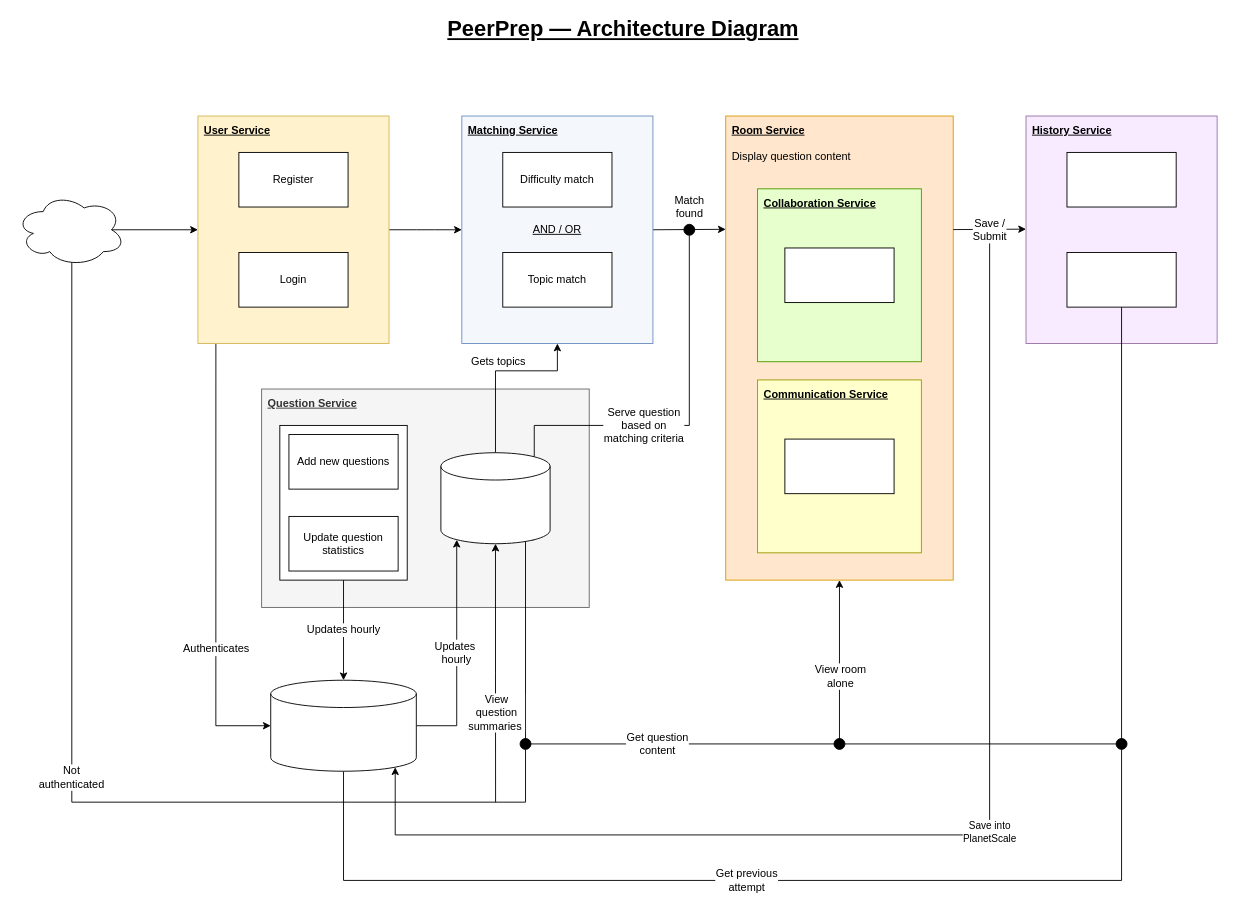
Some shapes in this 1233 by 909 pixel diagram are drawn without their labels. The shapes that lost their labels are listed below. From the top down, each one's centre as x and y in pixels, then its label:
At point 1121,179: "View summary of past attempts".
At point 70,229: "Users".
At point 839,275: "Realtime editor".
At point 1121,279: "View specific past attempt".
At point 839,466: "Voice/video communication".
At point 495,498: "Redis (Question summary and content)".
At point 343,725: "PlanetScale".
